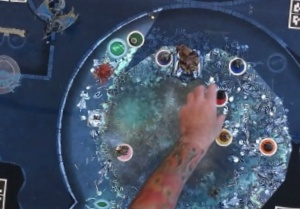blue: (225, 55, 247, 76)
green: (126, 27, 147, 49)
orange: (257, 131, 280, 157)
pink: (114, 140, 138, 162)
red: (211, 85, 233, 109)
violet: (153, 44, 177, 69)
yellow: (213, 126, 236, 149)
